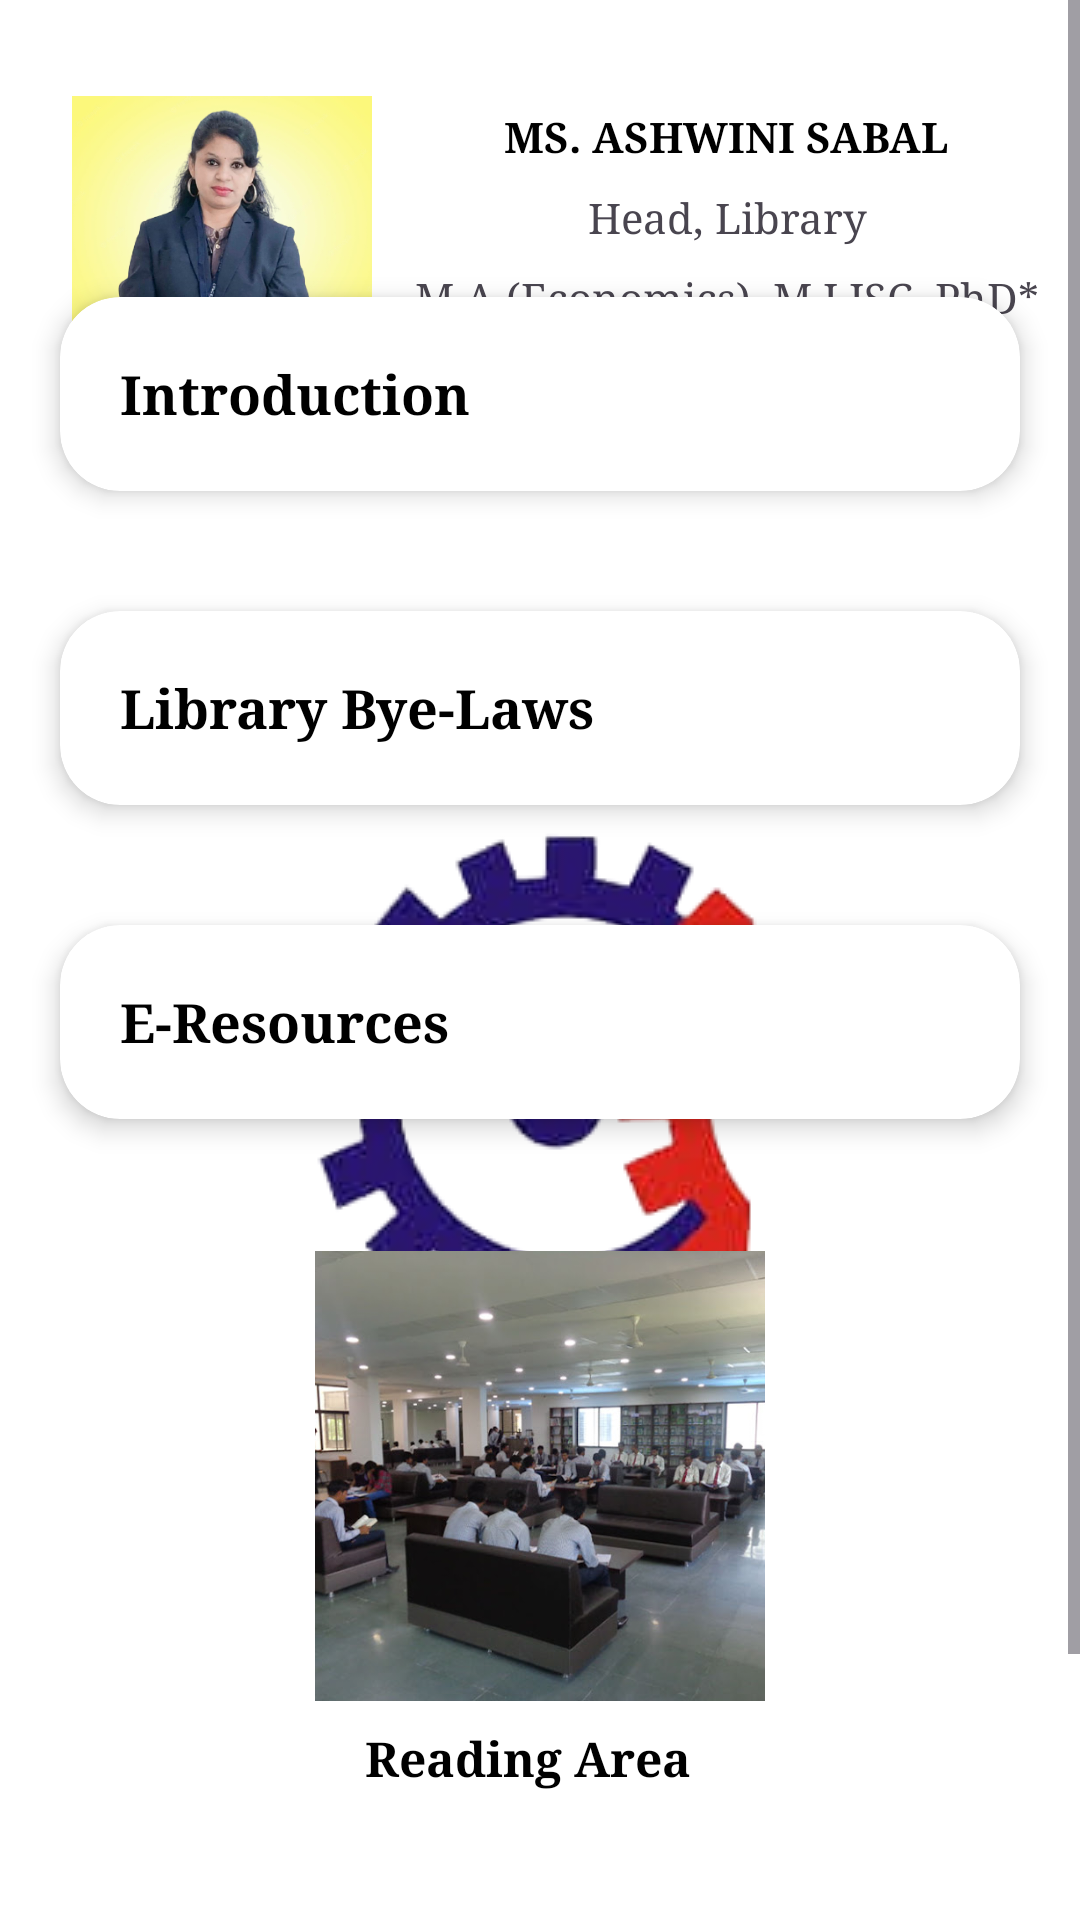

Icon bounding boxes for this 1080px×1920px phone screenshot, format (x1, y1, x2, y2):
library mam: (72, 96, 372, 321)
